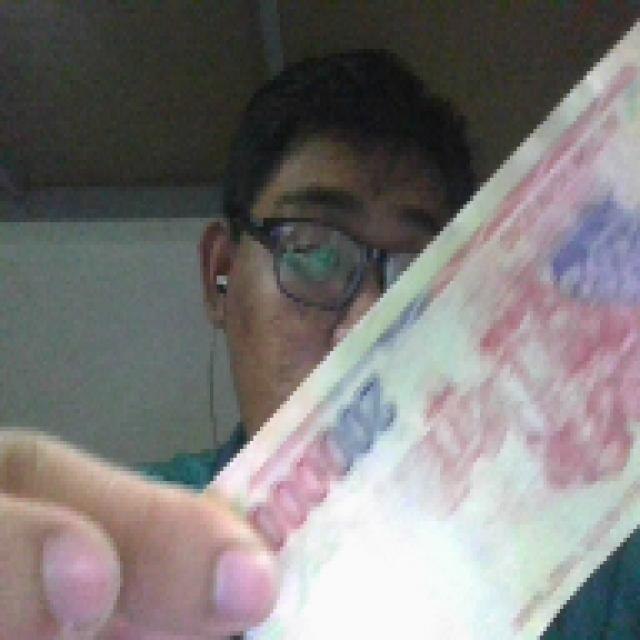200 000 VND: (193, 0, 637, 636)
